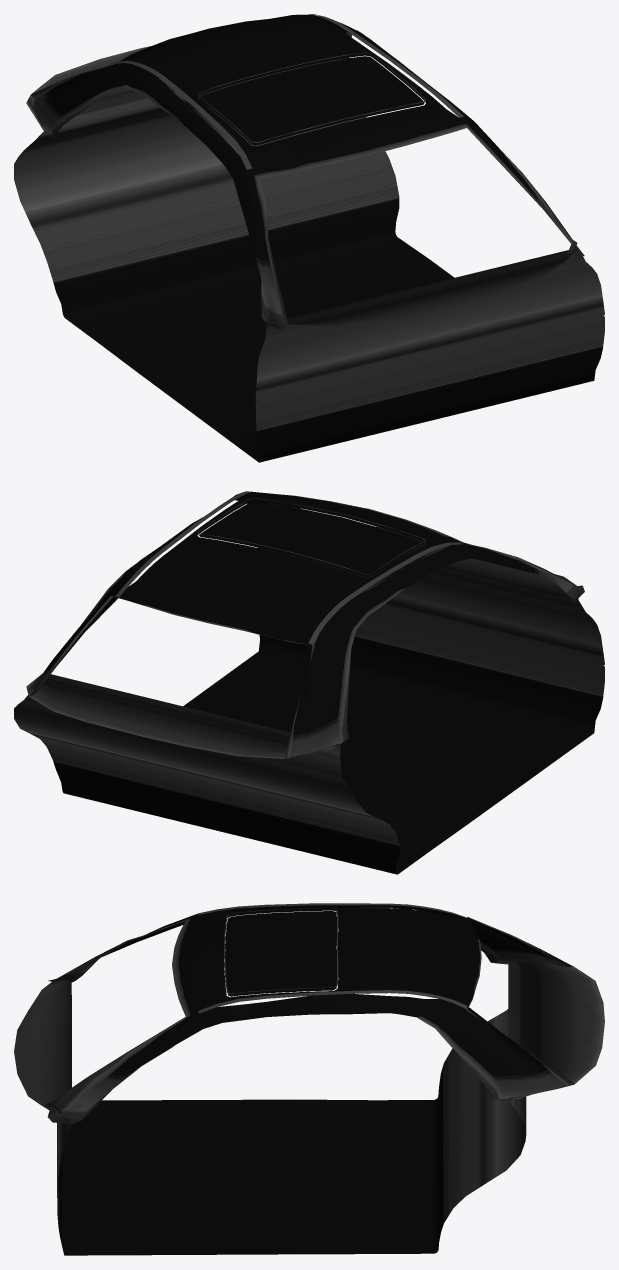
The model's file is main.obj.
The picture shows the model from 3 angles, top to bottom: view 1: azimuth 30°, elevation 25°; view 2: azimuth 150°, elevation 25°; view 3: azimuth 270°, elevation 25°; orthographic projection. The views are drawn at different scales.
Visible parts, largest first — view 1: Main1; view 2: Main1; view 3: Main1.
Part boxes in pixels (box(x1,y1,x2,y2)): Main1: box(14, 14, 604, 462); Main1: box(14, 491, 604, 874); Main1: box(14, 903, 604, 1255).
Size of the model in its own units: 6.49 by 4.4 by 10.04.
Materials: 1 (1 with a texture image).
